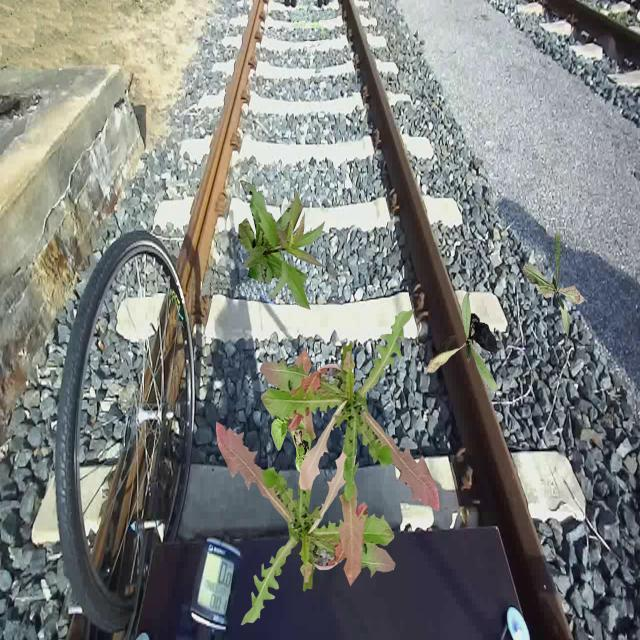Plant: (216, 347, 396, 625), (260, 309, 440, 587), (238, 180, 326, 310), (426, 292, 498, 392), (522, 230, 586, 342), (268, 381, 316, 476)
